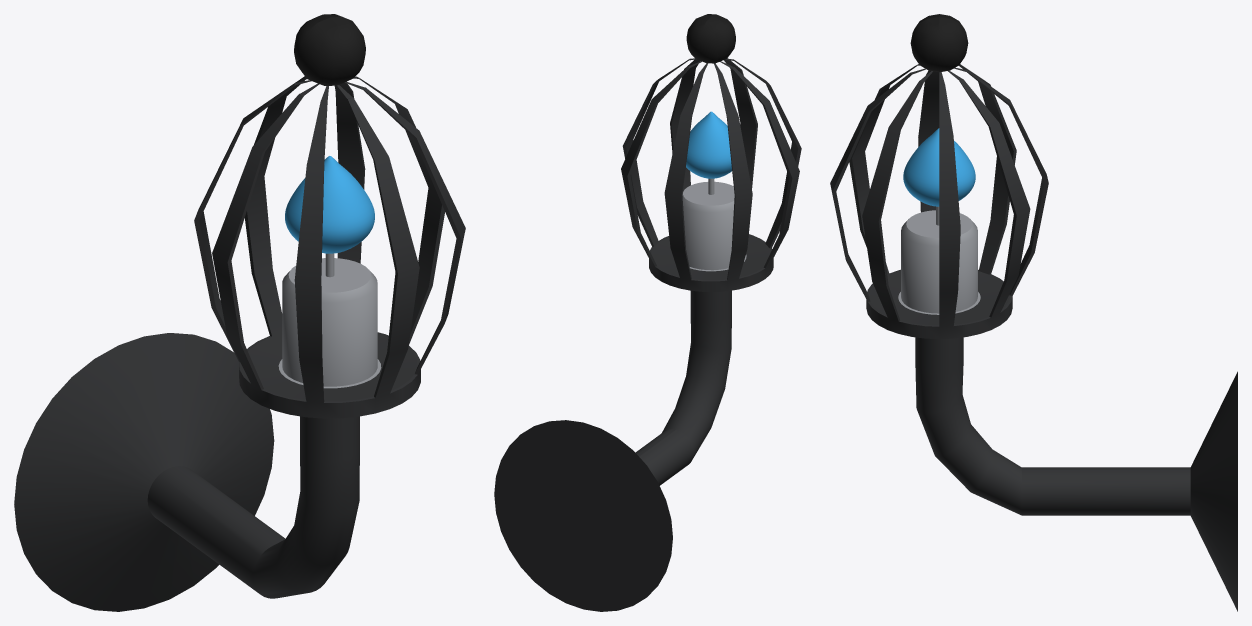
File: candlecage_wall.fbx
3 renders of one model, left to right at view 1: azimuth 30°, elevation 25°; view 2: azimuth 150°, elevation 25°; view 3: azimuth 270°, elevation 25°, orthographic. The views are drawn at different scales.
Visible parts, largest first — view 1: candlecagewall; view 2: candlecagewall; view 3: candlecagewall.
Boxes of the visible parts, <box> form: candlecagewall: <box>14,14,465,611</box>; candlecagewall: <box>494,14,801,611</box>; candlecagewall: <box>830,14,1237,611</box>.
Size of the model in its own units: 242 by 645 by 408.
